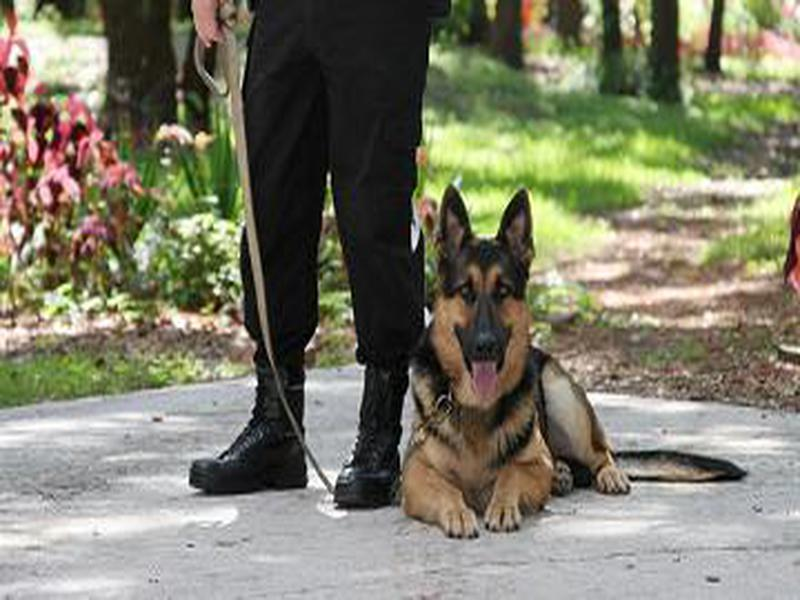dog_down: (395, 182, 633, 542)
